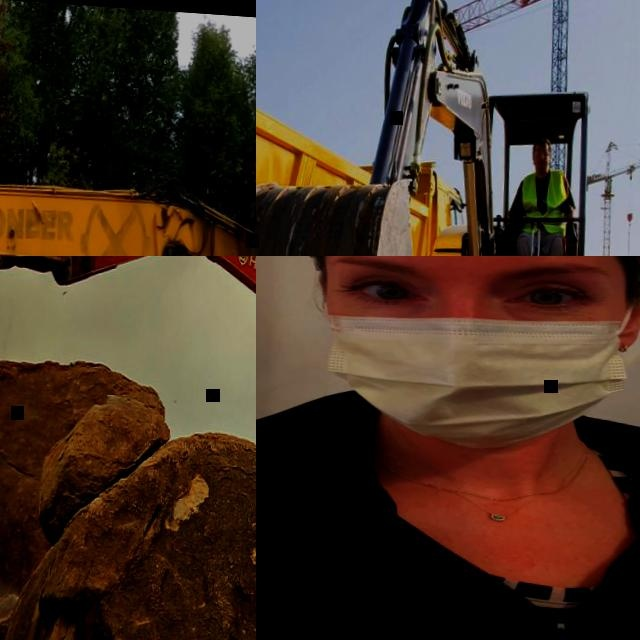Mask: (303, 279, 634, 457)
NO-Hardhat: (532, 135, 549, 146)
NO-Mask: (534, 160, 548, 173)
NO-Safety Vest: (256, 405, 640, 640), (516, 169, 568, 230)
Person: (256, 256, 640, 640), (497, 133, 578, 256)
machinery: (256, 0, 640, 256), (0, 256, 256, 640), (256, 39, 479, 256), (0, 137, 256, 256)
